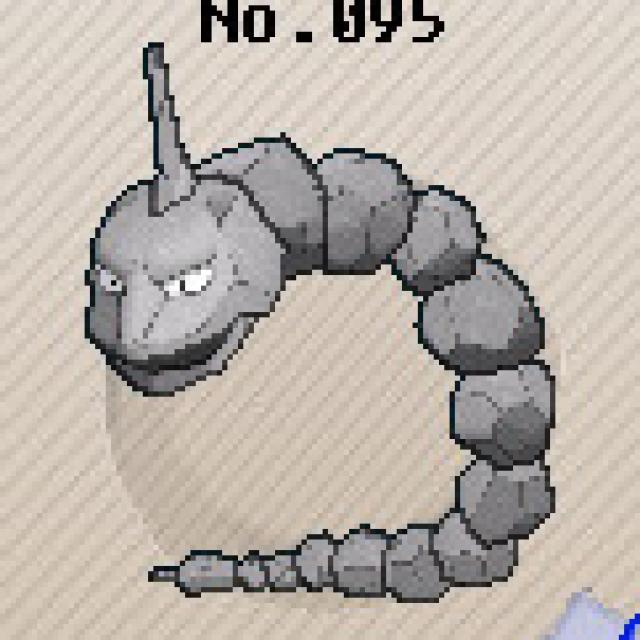Onix: (65, 48, 585, 609)
